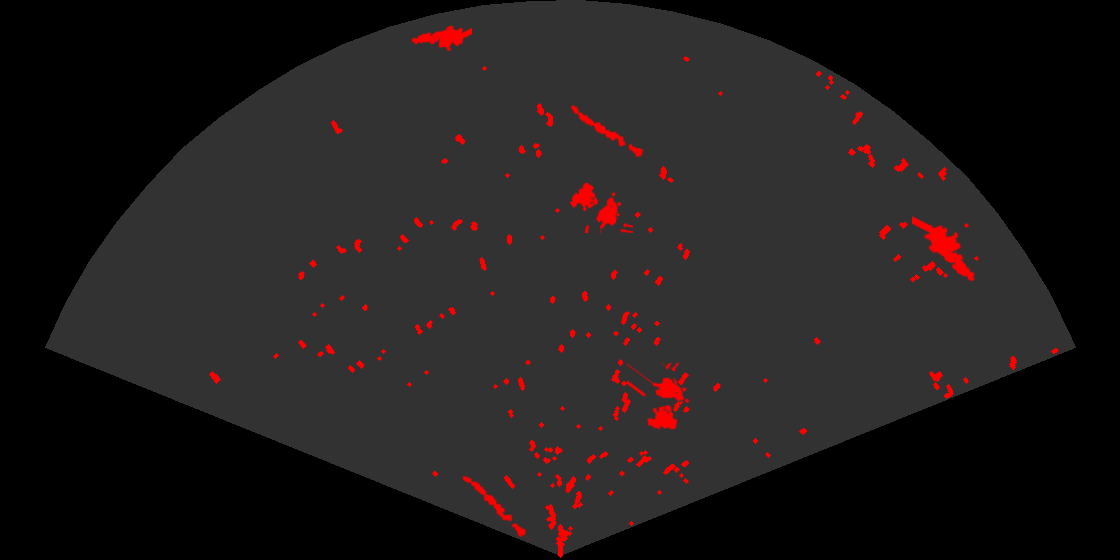cage: (627, 363, 691, 431), (568, 181, 633, 233)
chain: (461, 474, 534, 542), (569, 103, 648, 161)
frogman: (912, 215, 976, 283), (410, 24, 472, 53)
